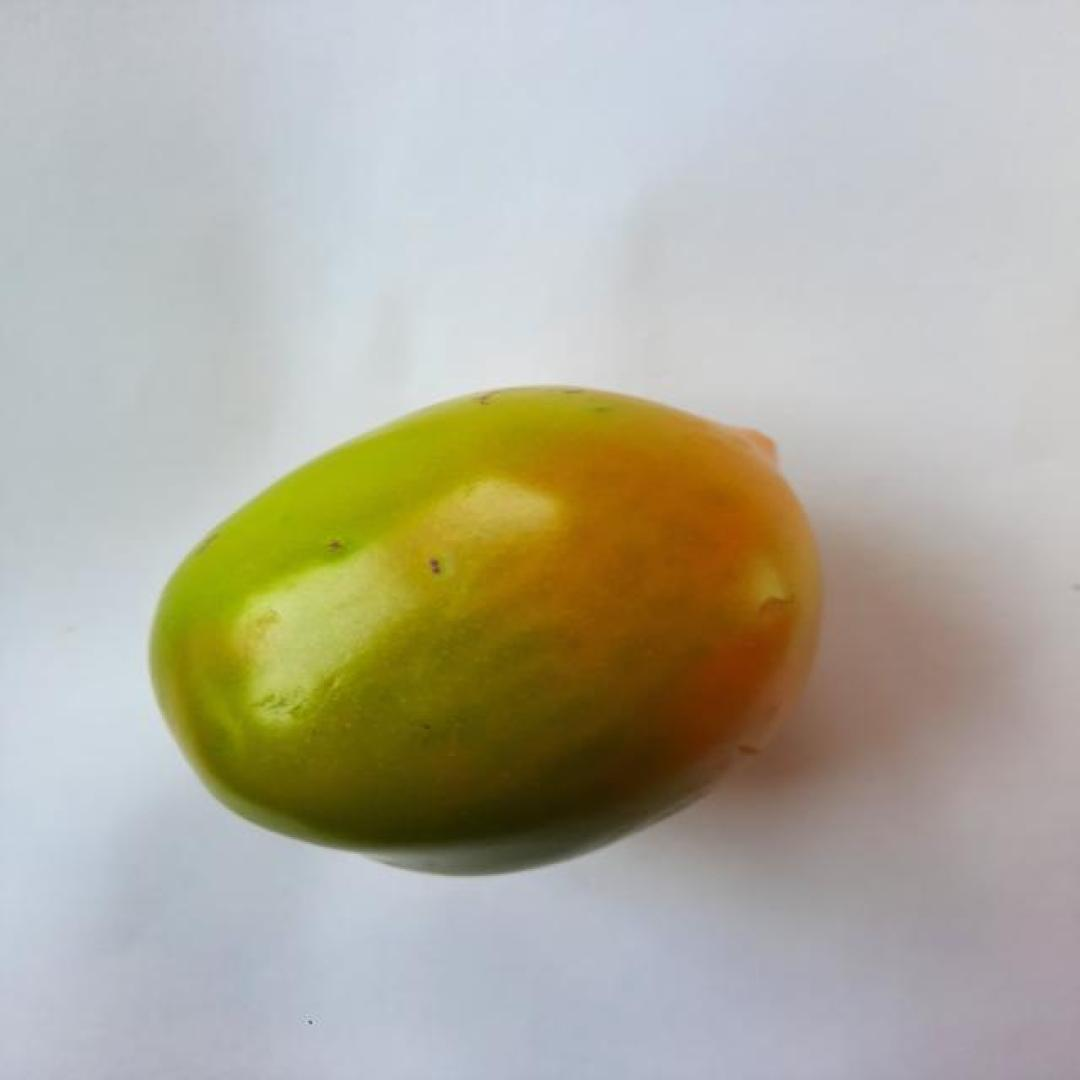setengah_matang: (140, 381, 830, 882)
